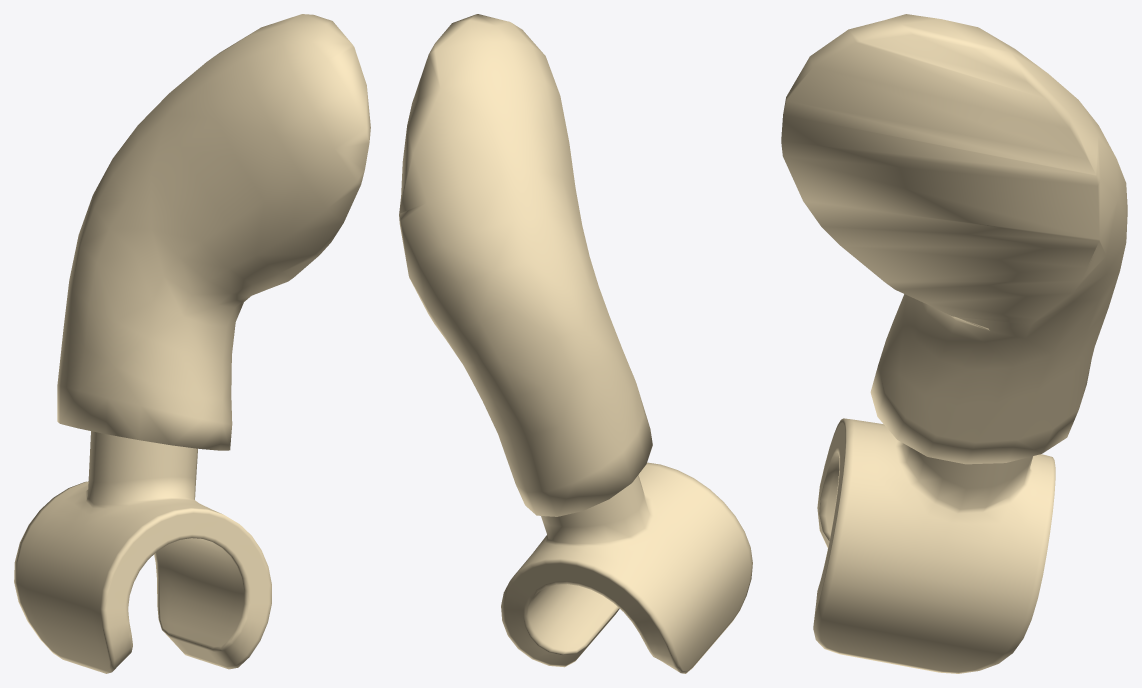
File: brazoDer.obj
3 renders of one model, left to right at view 1: azimuth 30°, elevation 25°; view 2: azimuth 150°, elevation 25°; view 3: azimuth 270°, elevation 25°, orthographic. The views are drawn at different scales.
Visible parts, largest first — view 1: brazoDerBart; view 2: brazoDerBart; view 3: brazoDerBart.
Boxes of the visible parts, bbox=[...] form: brazoDerBart: bbox=[14, 14, 370, 673]; brazoDerBart: bbox=[399, 14, 752, 673]; brazoDerBart: bbox=[781, 14, 1127, 673].
Bounding box in the file's own units: 1.14 × 2.46 × 1.08.
Materials: 1 (1 with a texture image).
